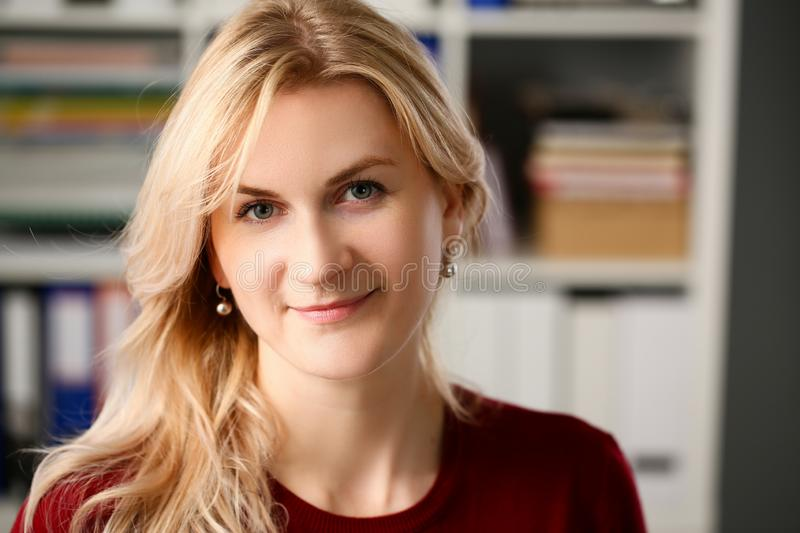NoMask: (222, 149, 422, 372)
